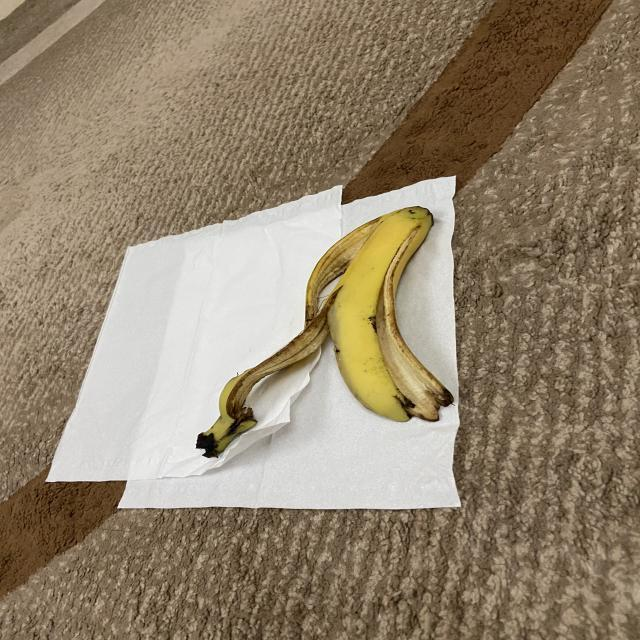banana-peel: (195, 204, 453, 458)
